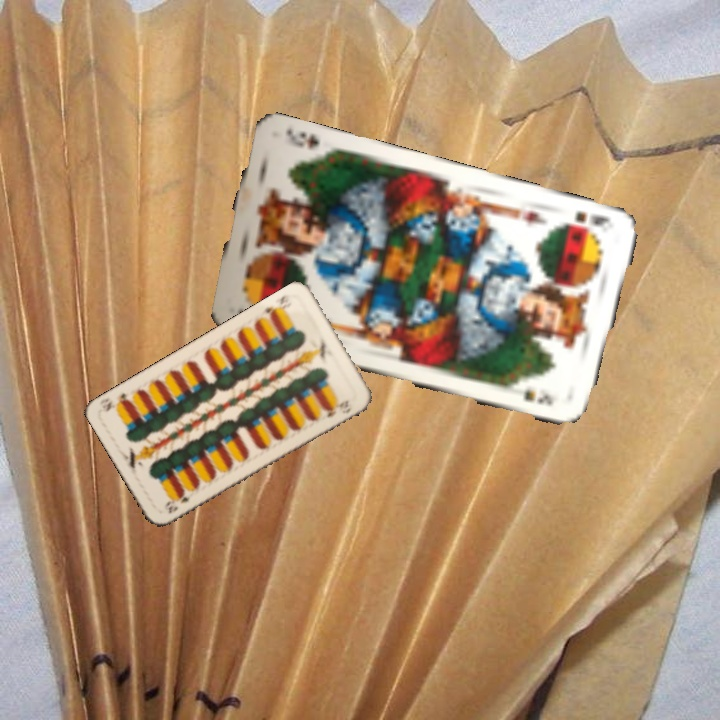E10: (261, 290, 295, 322), (160, 490, 196, 516)
SK: (558, 206, 612, 233)
